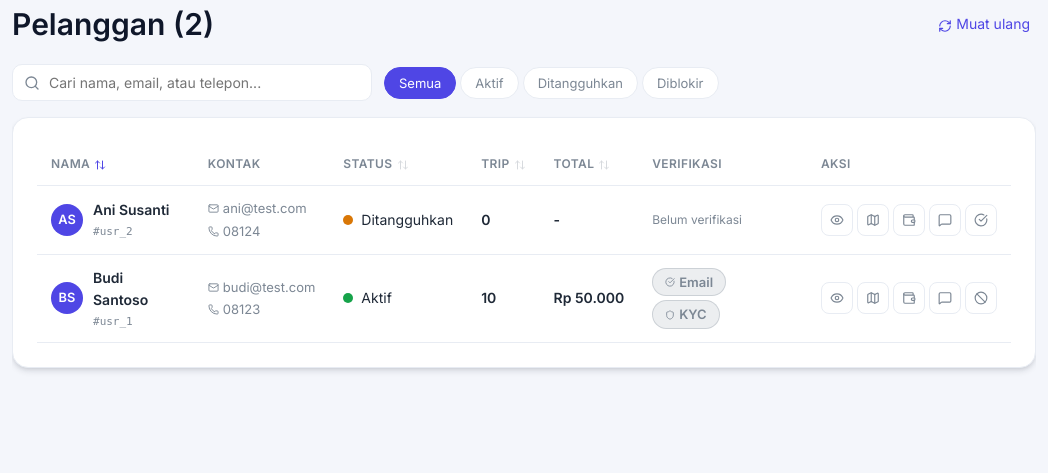
Test: Customers › shows empty state when no results found
The width and height of the screenshot is (1048, 473).
expect the text "Budi Santoso" is shown: met, box 93,269 -> 148,308
Type "Zzzz" into the field with placeholder "Cari nama, email, atau telepon...".
click(192, 82); type("Zzzz")  # box 12,64 -> 372,101
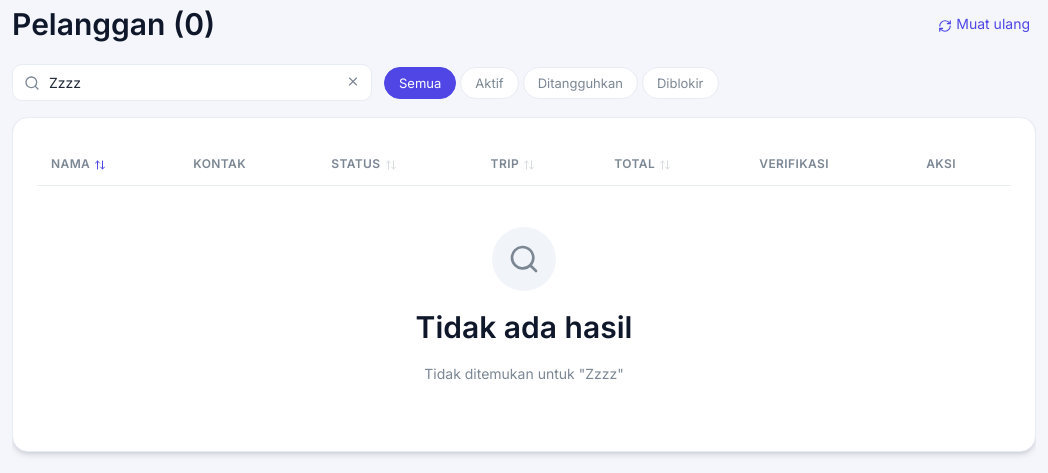
expect the heading "Tidak ada hasil" is shown: met, box 416,303 -> 632,351
